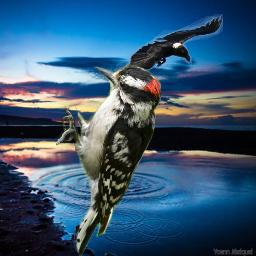Crow: (116, 14, 223, 76)
Woodpecker: (56, 62, 161, 256)
